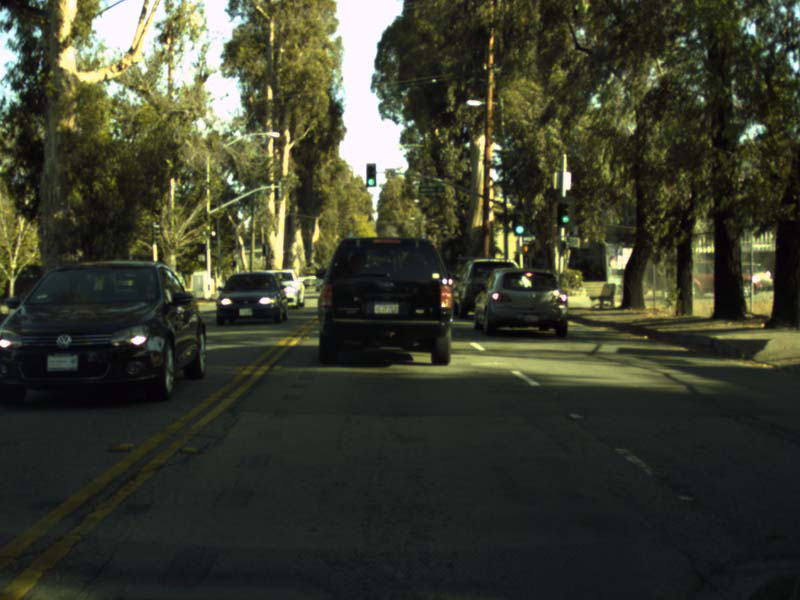Green: (513, 210, 524, 236), (558, 202, 570, 224), (365, 163, 376, 186)
